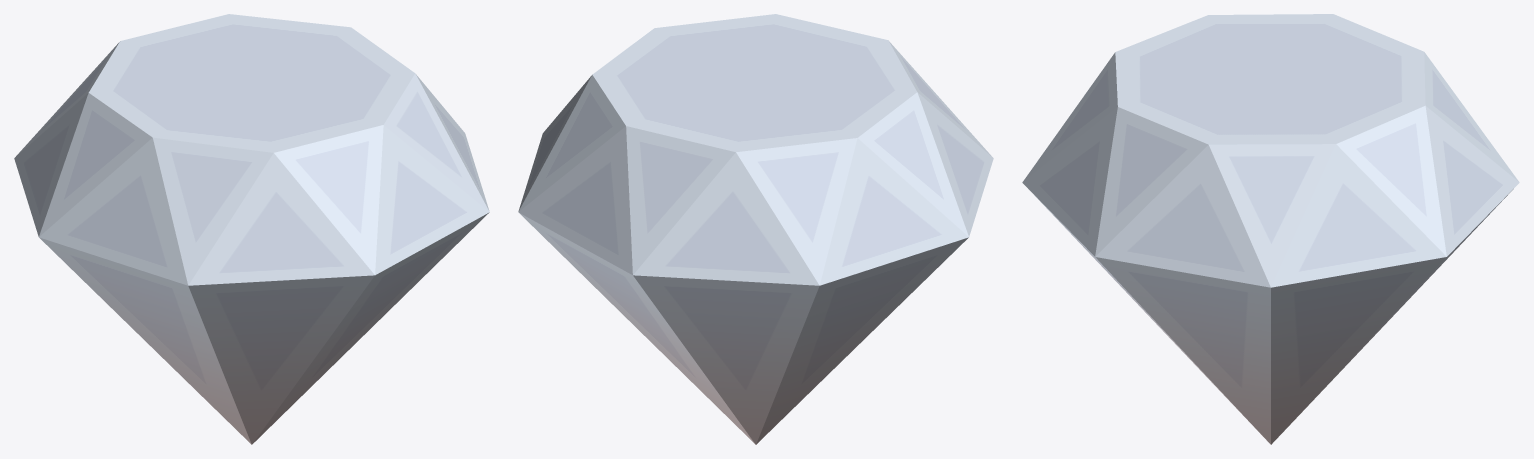
The model's file is Diamond.FBX.
3 renders of one model, left to right at view 1: azimuth 30°, elevation 25°; view 2: azimuth 150°, elevation 25°; view 3: azimuth 270°, elevation 25°, orthographic.
Parts seen in each view (by area): view 1: Diamond; view 2: Diamond; view 3: Diamond.
Part boxes in pixels (x1,y1,x2,y2): Diamond: [14, 14, 489, 444]; Diamond: [518, 14, 993, 444]; Diamond: [1022, 14, 1519, 444].
Size of the model in its own units: 98.94 by 80.25 by 98.94.
